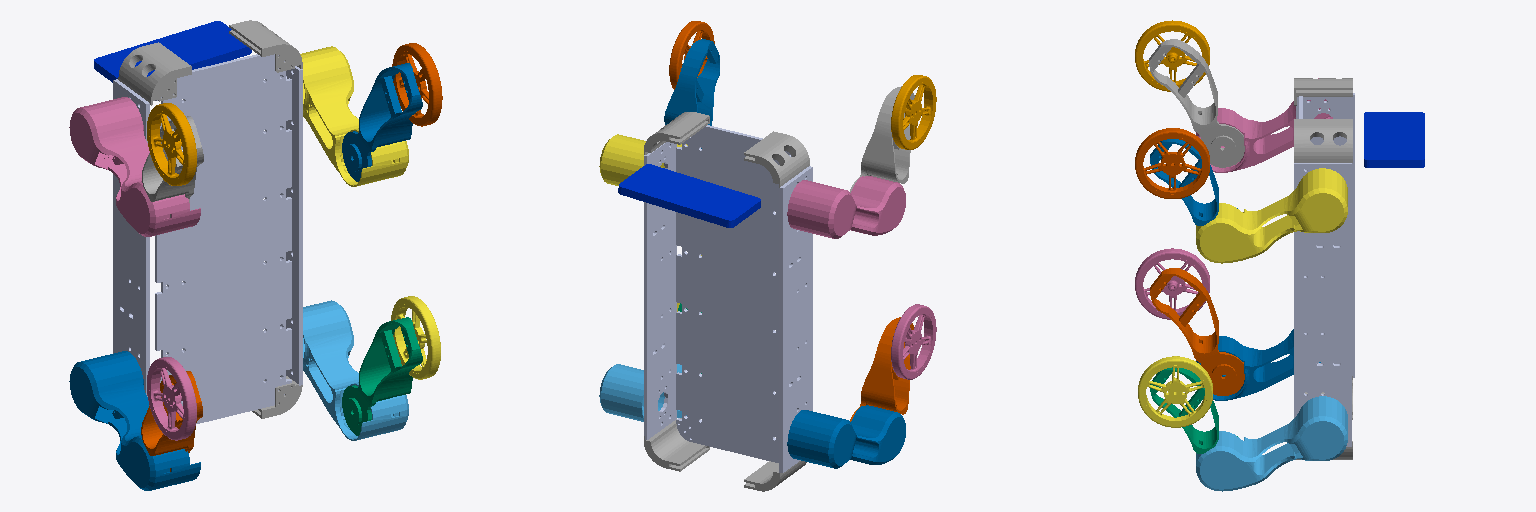
robot.urdf — bangar:
<?xml version="1.0"?>
<robot name="bangar">

  <material name="white"><color rgba="1 1 1 0.9"/></material>
  <material name="grey"><color rgba="0.79 0.82 0.93 0.9"/></material>
  <material name="blue"><color rgba="0.008 0.239 0.824 1"/></material>

  <gazebo>
    <plugin filename="libgz-sim-joint-state-publisher-system.so" name="gz::sim::systems::JointStatePublisher">
      <topic>/joint_states</topic>
    </plugin>
    <plugin filename="libgz-sim-pose-publisher-system.so" name="gz::sim::systems::PosePublisher">
      <publish_link_pose>true</publish_link_pose>
      <publish_nested_model_pose>true</publish_nested_model_pose>
    </plugin>
  </gazebo>

  <link name="base_link">
    <inertial>
      <origin xyz="0 0 0" rpy="0 0 0"/>
      <mass value="3.0"/>
      <inertia ixx="0.05" ixy="0" ixz="0" iyy="0.08" iyz="0" izz="0.05"/>
    </inertial>
    <visual>
      <geometry><mesh filename="package://bangar/meshes/base_link.STL"/></geometry>
      <material name="grey"/>
    </visual>
    <collision>
      <geometry><box size="0.35 0.06 0.25"/></geometry>
    </collision>
  </link>

  <link name="left_side_link">
    <inertial><origin xyz="0.09 0.03 0"/><mass value="0.3"/><inertia ixx="0.002" ixy="0" ixz="0" iyy="0.002" iyz="0" izz="0.001"/></inertial>
    <visual><geometry><mesh filename="package://bangar/meshes/left_side_link.STL"/></geometry><material name="grey"/></visual>
    <collision><origin xyz="0.09 0.03 0"/><geometry><box size="0.2 0.05 0.05"/></geometry></collision>
  </link>
  <joint name="left_side" type="fixed"><origin xyz="0 0 0"/><parent link="base_link"/><child link="left_side_link"/></joint>

  <link name="right_side_link">
    <inertial><origin xyz="-0.09 0.03 0"/><mass value="0.3"/><inertia ixx="0.002" ixy="0" ixz="0" iyy="0.002" iyz="0" izz="0.001"/></inertial>
    <visual><geometry><mesh filename="package://bangar/meshes/right_side_link.STL"/></geometry><material name="grey"/></visual>
    <collision><origin xyz="-0.09 0.03 0"/><geometry><box size="0.2 0.05 0.05"/></geometry></collision>
  </link>
  <joint name="right_side" type="fixed"><origin xyz="0 0 0"/><parent link="base_link"/><child link="right_side_link"/></joint>

  <link name="front_left_shoulder_link">
    <inertial><origin xyz="0 -0.06 -0.03"/><mass value="0.15"/><inertia ixx="3e-4" ixy="0" ixz="0" iyy="1e-4" iyz="0" izz="3e-4"/></inertial>
    <visual><origin xyz="0 0 -0.3"/><geometry><mesh filename="package://bangar/meshes/front_left_shoulder_link.STL"/></geometry></visual>
    <collision><origin xyz="0 0 -0.3"/><geometry><box size="0.04 0.04 0.15"/></geometry></collision>
  </link>
  <joint name="front_left_shoulder_joint" type="revolute">
    <origin xyz="0.16 0.03 0.15"/><parent link="left_side_link"/><child link="front_left_shoulder_link"/>
    <axis xyz="1 0 0"/><limit lower="-0.8" upper="0.8" effort="50" velocity="3.0"/><dynamics damping="1.0" friction="0.1"/>
  </joint>

  <link name="front_left_knee_link">
    <inertial><origin xyz="0.015 -0.025 0.04"/><mass value="0.06"/><inertia ixx="1e-4" ixy="0" ixz="0" iyy="1e-4" iyz="0" izz="5e-5"/></inertial>
    <visual><geometry><mesh filename="package://bangar/meshes/front_left_knee_link.STL"/></geometry></visual>
    <collision><origin xyz="0 -0.02 0.05"/><geometry><box size="0.04 0.04 0.1"/></geometry></collision>
  </link>
  <joint name="front_left_knee_joint" type="revolute">
    <origin xyz="-0.05 -0.12 -0.04"/><parent link="front_left_shoulder_link"/><child link="front_left_knee_link"/>
    <axis xyz="-1 0 0"/><limit lower="-1.2" upper="1.2" effort="50" velocity="3.0"/><dynamics damping="1.0" friction="0.1"/>
  </joint>

  <link name="front_left_wheel_link">
    <inertial><mass value="0.2"/><inertia ixx="4e-4" ixy="0" ixz="0" iyy="4e-4" iyz="0" izz="4e-4"/></inertial>
    <visual><geometry><mesh filename="package://bangar/meshes/front_left_wheel_link.STL"/></geometry></visual>
    <collision><origin xyz="0 0 0" rpy="0 1.5708 0"/><geometry><cylinder radius="0.05" length="0.03"/></geometry></collision>
  </link>
  <joint name="front_left_wheel_joint" type="continuous">
    <origin xyz="0.045 -0.06 0.1"/><parent link="front_left_knee_link"/><child link="front_left_wheel_link"/>
    <axis xyz="1 0 0"/><dynamics damping="1.0" friction="1.5"/>
  </joint>

  <link name="front_right_shoulder_link">
    <inertial><origin xyz="0 -0.06 -0.03"/><mass value="0.15"/><inertia ixx="3e-4" ixy="0" ixz="0" iyy="1e-4" iyz="0" izz="3e-4"/></inertial>
    <visual><geometry><mesh filename="package://bangar/meshes/front_right_shoulder_link.STL"/></geometry></visual>
    <collision><origin xyz="0 -0.06 -0.02"/><geometry><box size="0.04 0.04 0.15"/></geometry></collision>
  </link>
  <joint name="front_right_shoulder_joint" type="revolute">
    <origin xyz="-0.16 0.03 0.15"/><parent link="right_side_link"/><child link="front_right_shoulder_link"/>
    <axis xyz="-1 0 0"/><limit lower="-0.8" upper="0.8" effort="50" velocity="3.0"/><dynamics damping="1.0" friction="0.1"/>
  </joint>

  <link name="front_right_knee_link">
    <inertial><origin xyz="-0.015 -0.025 0.04"/><mass value="0.06"/><inertia ixx="1e-4" ixy="0" ixz="0" iyy="1e-4" iyz="0" izz="5e-5"/></inertial>
    <visual><geometry><mesh filename="package://bangar/meshes/front_right_knee_link.STL"/></geometry></visual>
    <collision><origin xyz="0 -0.02 0.05"/><geometry><box size="0.04 0.04 0.1"/></geometry></collision>
  </link>
  <joint name="front_right_knee_joint" type="revolute">
    <origin xyz="0.05 -0.12 -0.04"/><parent link="front_right_shoulder_link"/><child link="front_right_knee_link"/>
    <axis xyz="1 0 0"/><limit lower="-1.2" upper="1.2" effort="50" velocity="3.0"/><dynamics damping="1.0" friction="0.1"/>
  </joint>

  <link name="front_right_wheel_link">
    <inertial><mass value="0.2"/><inertia ixx="4e-4" ixy="0" ixz="0" iyy="4e-4" iyz="0" izz="4e-4"/></inertial>
    <visual><geometry><mesh filename="package://bangar/meshes/front_right_wheel_link.STL"/></geometry></visual>
    <collision><origin xyz="0 0 0" rpy="0 1.5708 0"/><geometry><cylinder radius="0.05" length="0.03"/></geometry></collision>
  </link>
  <joint name="front_right_wheel_joint" type="continuous">
    <origin xyz="-0.045 -0.06 0.1"/><parent link="front_right_knee_link"/><child link="front_right_wheel_link"/>
    <axis xyz="-1 0 0"/><dynamics damping="1.0" friction="1.5"/>
  </joint>

  <link name="back_left_shoulder_link">
    <inertial><origin xyz="0 -0.06 -0.03"/><mass value="0.15"/><inertia ixx="3e-4" ixy="0" ixz="0" iyy="1e-4" iyz="0" izz="3e-4"/></inertial>
    <visual><geometry><mesh filename="package://bangar/meshes/back_left_shoulder_link.STL"/></geometry></visual>
    <collision><origin xyz="0 -0.06 -0.02"/><geometry><box size="0.04 0.04 0.15"/></geometry></collision>
  </link>
  <joint name="back_left_shoulder_joint" type="revolute">
    <origin xyz="0.16 0.03 -0.15"/><parent link="left_side_link"/><child link="back_left_shoulder_link"/>
    <axis xyz="1 0 0"/><limit lower="-0.8" upper="0.8" effort="50" velocity="3.0"/><dynamics damping="1.0" friction="0.1"/>
  </joint>

  <link name="back_left_knee_link">
    <inertial><origin xyz="0.015 -0.025 0.04"/><mass value="0.06"/><inertia ixx="1e-4" ixy="0" ixz="0" iyy="1e-4" iyz="0" izz="5e-5"/></inertial>
    <visual><geometry><mesh filename="package://bangar/meshes/back_left_knee_link.STL"/></geometry></visual>
    <collision><origin xyz="0 -0.02 0.05"/><geometry><box size="0.04 0.04 0.1"/></geometry></collision>
  </link>
  <joint name="back_left_knee_joint" type="revolute">
    <origin xyz="-0.05 -0.12 -0.04"/><parent link="back_left_shoulder_link"/><child link="back_left_knee_link"/>
    <axis xyz="-1 0 0"/><limit lower="-1.4" upper="1.4" effort="50" velocity="3.0"/><dynamics damping="1.0" friction="0.1"/>
  </joint>

  <link name="back_left_wheel_link">
    <inertial><mass value="0.2"/><inertia ixx="4e-4" ixy="0" ixz="0" iyy="4e-4" iyz="0" izz="4e-4"/></inertial>
    <visual><geometry><mesh filename="package://bangar/meshes/back_left_wheel_link.STL"/></geometry></visual>
    <collision><origin xyz="0 0 0" rpy="0 1.5708 0"/><geometry><cylinder radius="0.05" length="0.03"/></geometry></collision>
  </link>
  <joint name="back_left_wheel_joint" type="continuous">
    <origin xyz="0.045 -0.06 0.1"/><parent link="back_left_knee_link"/><child link="back_left_wheel_link"/>
    <axis xyz="1 0 0"/><dynamics damping="1.0" friction="1.5"/>
  </joint>

  <link name="back_right_shoulder">
    <inertial><origin xyz="0 -0.06 -0.03"/><mass value="0.15"/><inertia ixx="3e-4" ixy="0" ixz="0" iyy="1e-4" iyz="0" izz="3e-4"/></inertial>
    <visual><geometry><mesh filename="package://bangar/meshes/back_right_shoulder.STL"/></geometry></visual>
    <collision><origin xyz="0 -0.06 -0.02"/><geometry><box size="0.04 0.04 0.15"/></geometry></collision>
  </link>
  <joint name="back_right_shoulder_joint" type="revolute">
    <origin xyz="-0.16 0.03 -0.15"/><parent link="right_side_link"/><child link="back_right_shoulder"/>
    <axis xyz="-1 0 0"/><limit lower="-0.8" upper="0.8" effort="50" velocity="3.0"/><dynamics damping="1.0" friction="0.1"/>
  </joint>

  <link name="back_right_knee_link">
    <inertial><origin xyz="-0.015 -0.025 0.04"/><mass value="0.06"/><inertia ixx="1e-4" ixy="0" ixz="0" iyy="1e-4" iyz="0" izz="5e-5"/></inertial>
    <visual><geometry><mesh filename="package://bangar/meshes/back_right_knee_link.STL"/></geometry></visual>
    <collision><origin xyz="0 -0.02 0.05"/><geometry><box size="0.04 0.04 0.1"/></geometry></collision>
  </link>
  <joint name="back_right_knee_joint" type="revolute">
    <origin xyz="0.05 -0.12 -0.04"/><parent link="back_right_shoulder"/><child link="back_right_knee_link"/>
    <axis xyz="1 0 0"/><limit lower="-1.4" upper="1.4" effort="50" velocity="3.0"/><dynamics damping="1.0" friction="0.1"/>
  </joint>

  <link name="back_right_wheel_link">
    <inertial><mass value="0.2"/><inertia ixx="4e-4" ixy="0" ixz="0" iyy="4e-4" iyz="0" izz="4e-4"/></inertial>
    <visual><geometry><mesh filename="package://bangar/meshes/back_right_wheel_link.STL"/></geometry></visual>
    <collision><origin xyz="0 0 0" rpy="0 1.5708 0"/><geometry><cylinder radius="0.05" length="0.03"/></geometry></collision>
  </link>
  <joint name="back_right_wheel_joint" type="continuous">
    <origin xyz="-0.045 -0.06 0.1"/><parent link="back_right_knee_link"/><child link="back_right_wheel_link"/>
    <axis xyz="-1 0 0"/><dynamics damping="1.0" friction="1.5"/>
  </joint>

  <link name="corners_link">
    <inertial><origin xyz="0 0.03 -0.015"/><mass value="0.15"/><inertia ixx="1e-4" ixy="0" ixz="0" iyy="1e-4" iyz="0" izz="1e-4"/></inertial>
    <visual><geometry><mesh filename="package://bangar/meshes/corners_link.STL"/></geometry></visual>
    <collision><geometry><box size="0.35 0.05 0.25"/></geometry></collision>
  </link>
  <joint name="corners" type="fixed"><origin xyz="0 0 0"/><parent link="base_link"/><child link="corners_link"/></joint>

  <link name="mobile_link">
    <inertial><origin xyz="0 0.11 0.17"/><mass value="0.12"/><inertia ixx="5e-4" ixy="0" ixz="0" iyy="5e-4" iyz="0" izz="3e-4"/></inertial>
    <visual><geometry><mesh filename="package://bangar/meshes/mobile_link.STL"/></geometry><material name="blue"/></visual>
    <collision><origin xyz="0 0.1 0.15"/><geometry><box size="0.08 0.05 0.15"/></geometry></collision>
  </link>
  <joint name="mobile_joint" type="fixed"><origin xyz="0 0 0"/><parent link="base_link"/><child link="mobile_link"/></joint>

  <gazebo>
    <plugin filename="libgz-sim-joint-position-controller-system.so" name="gz::sim::systems::JointPositionController">
      <joint_name>front_left_shoulder_joint</joint_name><topic>/cmd/front_left_shoulder</topic>
      <p_gain>150</p_gain><i_gain>5</i_gain><d_gain>12</d_gain>
    </plugin>
    <plugin filename="libgz-sim-joint-position-controller-system.so" name="gz::sim::systems::JointPositionController">
      <joint_name>front_left_knee_joint</joint_name><topic>/cmd/front_left_knee</topic>
      <p_gain>40</p_gain><i_gain>1</i_gain><d_gain>8</d_gain>
    </plugin>
    <plugin filename="libgz-sim-joint-position-controller-system.so" name="gz::sim::systems::JointPositionController">
      <joint_name>back_left_shoulder_joint</joint_name><topic>/cmd/back_left_shoulder</topic>
      <p_gain>150</p_gain><i_gain>5</i_gain><d_gain>12</d_gain>
    </plugin>
    <plugin filename="libgz-sim-joint-position-controller-system.so" name="gz::sim::systems::JointPositionController">
      <joint_name>back_left_knee_joint</joint_name><topic>/cmd/back_left_knee</topic>
      <p_gain>40</p_gain><i_gain>1</i_gain><d_gain>8</d_gain>
    </plugin>
    <plugin filename="libgz-sim-joint-position-controller-system.so" name="gz::sim::systems::JointPositionController">
      <joint_name>front_right_shoulder_joint</joint_name><topic>/cmd/front_right_shoulder</topic>
      <p_gain>150</p_gain><i_gain>5</i_gain><d_gain>12</d_gain>
    </plugin>
    <plugin filename="libgz-sim-joint-position-controller-system.so" name="gz::sim::systems::JointPositionController">
      <joint_name>front_right_knee_joint</joint_name><topic>/cmd/front_right_knee</topic>
      <p_gain>40</p_gain><i_gain>1</i_gain><d_gain>8</d_gain>
    </plugin>
    <plugin filename="libgz-sim-joint-position-controller-system.so" name="gz::sim::systems::JointPositionController">
      <joint_name>back_right_shoulder_joint</joint_name><topic>/cmd/back_right_shoulder</topic>
      <p_gain>150</p_gain><i_gain>5</i_gain><d_gain>12</d_gain>
    </plugin>
    <plugin filename="libgz-sim-joint-position-controller-system.so" name="gz::sim::systems::JointPositionController">
      <joint_name>back_right_knee_joint</joint_name><topic>/cmd/back_right_knee</topic>
      <p_gain>40</p_gain><i_gain>1</i_gain><d_gain>8</d_gain>
    </plugin>
  </gazebo>

  <gazebo>
    <plugin filename="libgz-sim-joint-velocity-controller-system.so" name="gz::sim::systems::JointVelocityController">
      <joint_name>front_left_wheel_joint</joint_name><topic>/cmd/front_left_wheel</topic>
      <p_gain>10.0</p_gain><i_gain>0.1</i_gain><d_gain>0.01</d_gain>
    </plugin>
    <plugin filename="libgz-sim-joint-velocity-controller-system.so" name="gz::sim::systems::JointVelocityController">
      <joint_name>back_left_wheel_joint</joint_name><topic>/cmd/back_left_wheel</topic>
      <p_gain>10.0</p_gain><i_gain>0.1</i_gain><d_gain>0.01</d_gain>
    </plugin>
    <plugin filename="libgz-sim-joint-velocity-controller-system.so" name="gz::sim::systems::JointVelocityController">
      <joint_name>front_right_wheel_joint</joint_name><topic>/cmd/front_right_wheel</topic>
      <p_gain>10.0</p_gain><i_gain>0.1</i_gain><d_gain>0.01</d_gain>
    </plugin>
    <plugin filename="libgz-sim-joint-velocity-controller-system.so" name="gz::sim::systems::JointVelocityController">
      <joint_name>back_right_wheel_joint</joint_name><topic>/cmd/back_right_wheel</topic>
      <p_gain>10.0</p_gain><i_gain>0.1</i_gain><d_gain>0.01</d_gain>
    </plugin>
  </gazebo>

</robot>

--- Facts derived from the render (not from the file) ---
Views: 3 orthographic renders of the robot side by side, from view 1: azimuth 30°, elevation 25°; view 2: azimuth 150°, elevation 25°; view 3: azimuth 270°, elevation 25°.
Robot: bangar — 17 links, 16 joints (8 revolute, 4 continuous, 4 fixed); root link base_link; default pose: all joints at 0.
Visible links, largest first — view 1: base_link, front_right_shoulder_link, back_right_shoulder, front_left_shoulder_link, back_left_shoulder_link, right_side_link, corners_link, front_left_knee_link, back_left_knee_link, left_side_link, mobile_link, back_right_wheel_link (+5 smaller); view 2: base_link, left_side_link, right_side_link, corners_link, front_right_shoulder_link, back_right_shoulder, mobile_link, front_left_knee_link, front_right_knee_link, back_right_knee_link, front_right_wheel_link, back_right_wheel_link (+3 smaller); view 3: left_side_link, front_left_shoulder_link, back_left_shoulder_link, front_right_knee_link, corners_link, back_right_knee_link, mobile_link, front_left_wheel_link, back_left_wheel_link, front_right_shoulder_link, back_right_shoulder, front_right_wheel_link (+4 smaller).
Boxes of the visible links, x1,y1,x2,y2 form: base_link: (155, 54, 291, 423); front_right_shoulder_link: (69, 97, 200, 236); back_right_shoulder: (69, 351, 200, 490); front_left_shoulder_link: (300, 46, 408, 186); back_left_shoulder_link: (303, 300, 408, 440); right_side_link: (113, 79, 149, 396); corners_link: (118, 20, 302, 418); front_left_knee_link: (342, 63, 422, 181); back_left_knee_link: (342, 317, 422, 435); left_side_link: (280, 66, 302, 385); mobile_link: (94, 21, 251, 82); back_right_wheel_link: (147, 357, 196, 440); base_link: (676, 125, 791, 462); left_side_link: (644, 142, 676, 439); right_side_link: (779, 166, 812, 472); corners_link: (644, 112, 809, 491); front_right_shoulder_link: (787, 176, 905, 238); back_right_shoulder: (787, 405, 905, 468); mobile_link: (618, 164, 760, 227); front_left_knee_link: (664, 39, 719, 148); front_right_knee_link: (850, 86, 914, 192); back_right_knee_link: (850, 317, 913, 421); front_right_wheel_link: (891, 75, 936, 149); back_right_wheel_link: (891, 304, 936, 379); left_side_link: (1294, 163, 1351, 446); front_left_shoulder_link: (1196, 168, 1347, 263); back_left_shoulder_link: (1196, 396, 1347, 491); front_right_knee_link: (1149, 39, 1244, 167); corners_link: (1294, 78, 1352, 459); back_right_knee_link: (1150, 268, 1244, 395); mobile_link: (1364, 112, 1424, 167); front_left_wheel_link: (1135, 128, 1209, 198); back_left_wheel_link: (1138, 356, 1212, 427); front_right_shoulder_link: (1196, 78, 1332, 172); back_right_shoulder: (1196, 329, 1320, 400); front_right_wheel_link: (1135, 20, 1209, 91).
Size in the robot's own frame: 0.32 by 0.3458 by 0.4746 metres.
Meshes: 17 distinct files referenced, 17 mesh visuals loaded (17 binary STL).
